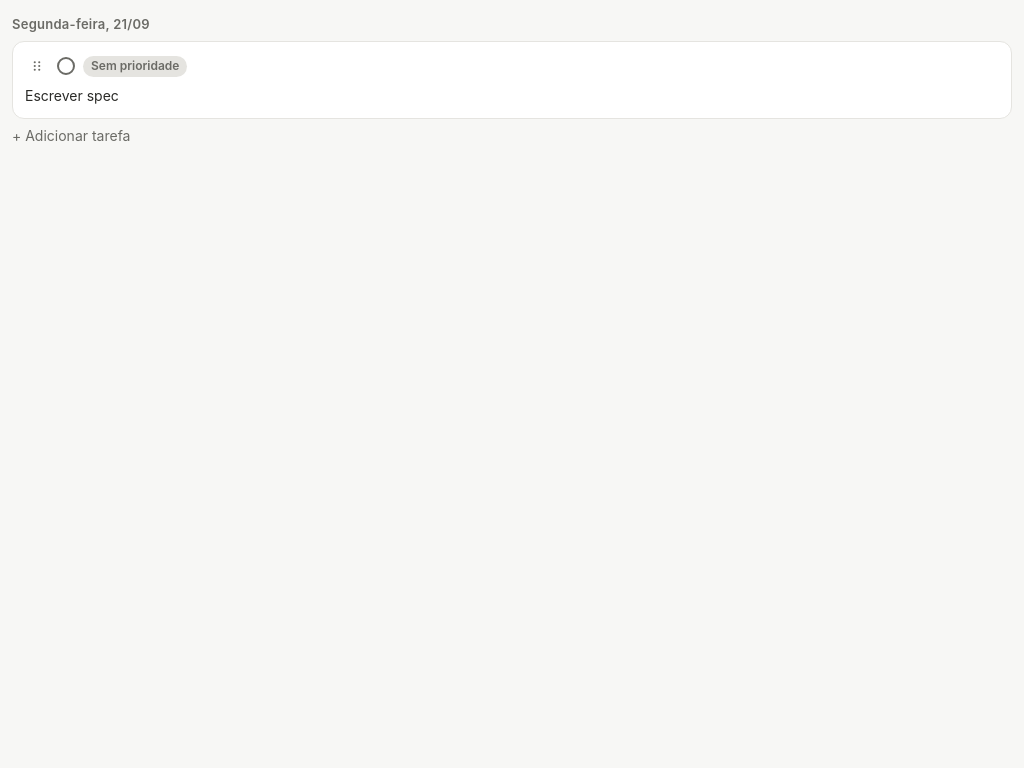
Test case: DayColumn › Edição de tarefa (Story 2.2) › edição bem-sucedida fecha o modal e devolve o foco ao Card que abriu
Click the button with aria-label "Editar tarefa: Escrever spec": (72, 96) [12, 41, 1012, 119]
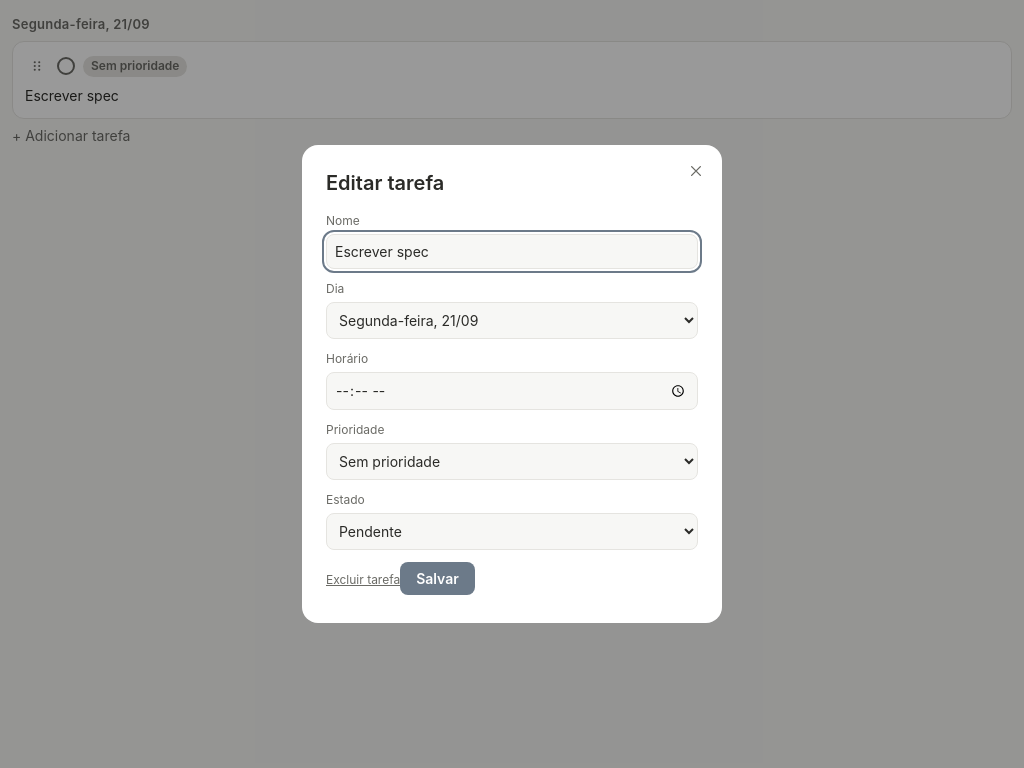
Now the dialog is shown, box [302, 145, 722, 623]
Replace the text in the field labelled "Nome" with "Renomeada": (512, 252) [326, 234, 698, 269]
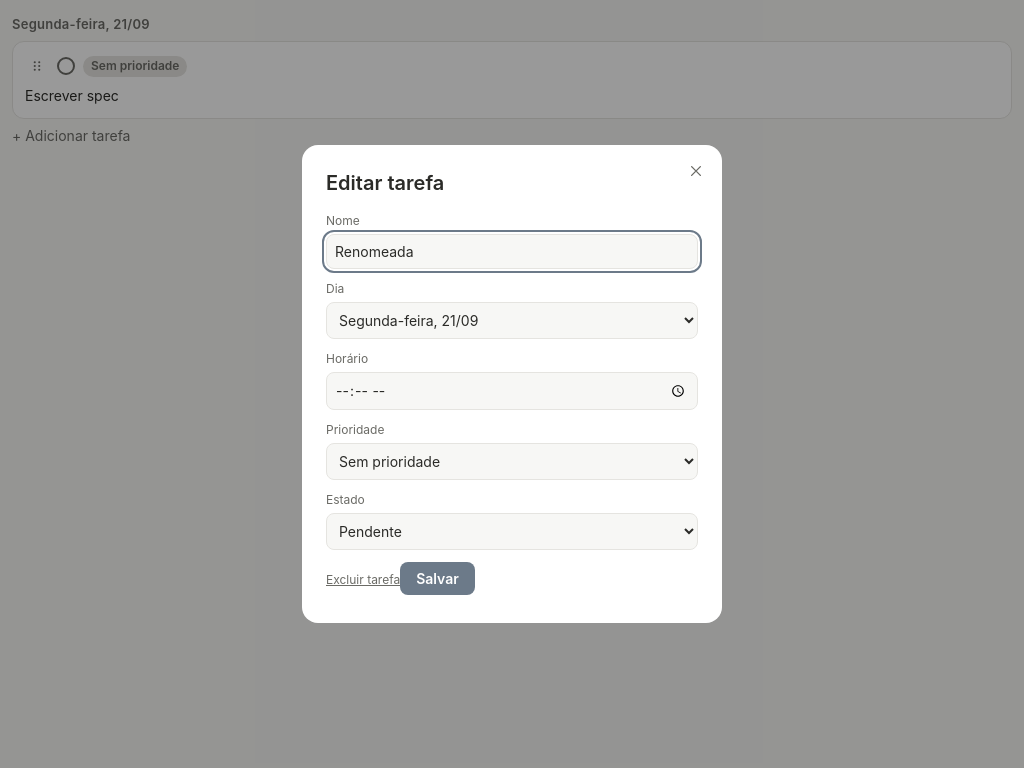
Click the button "Salvar": (438, 578) [400, 562, 475, 595]
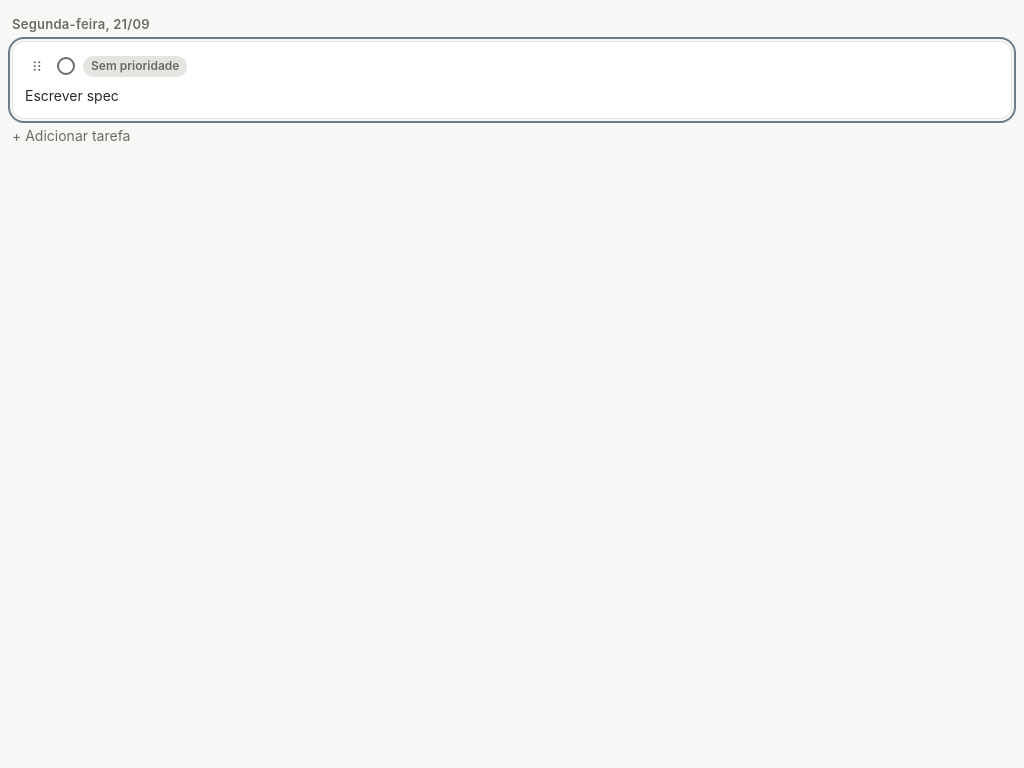
Now the dialog is gone
